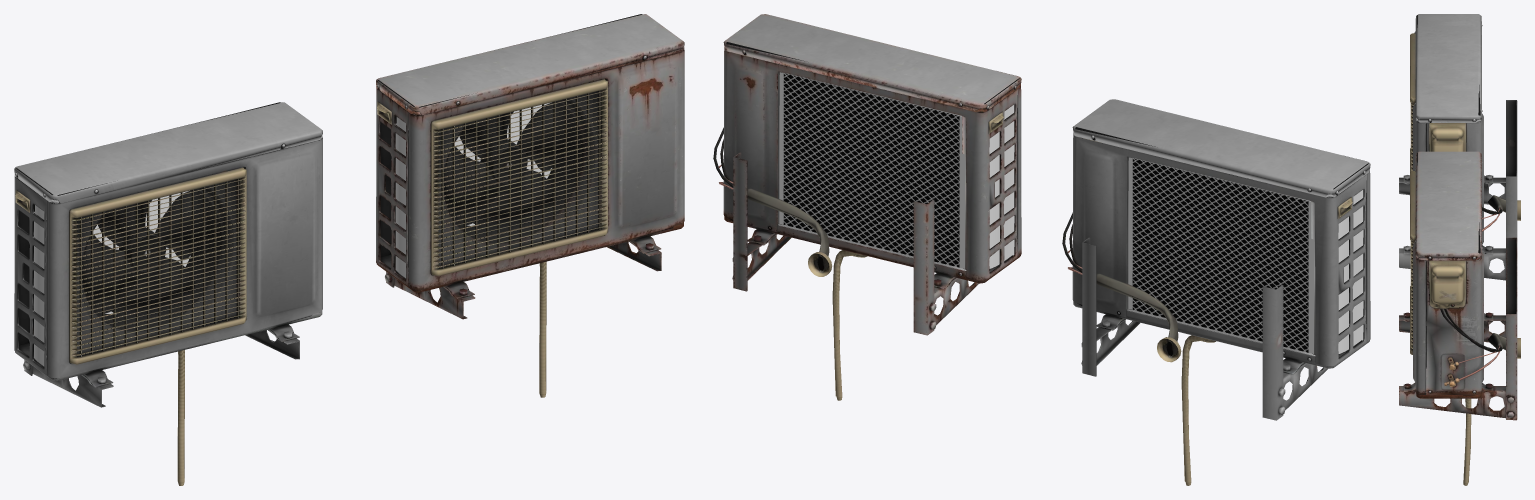
The model's file is exterior_aircon_unit.glb.
The picture shows the model from 3 angles, left to right: view 1: azimuth 30°, elevation 25°; view 2: azimuth 150°, elevation 25°; view 3: azimuth 270°, elevation 25°; orthographic projection. The views are drawn at different scales.
Visible parts, largest first — view 1: exterior_aircon_unit_rusted, exterior_aircon_unit; view 2: exterior_aircon_unit_rusted, exterior_aircon_unit; view 3: exterior_aircon_unit_rusted, exterior_aircon_unit.
Boxes of the visible parts, x1,y1,x2,y2 form: exterior_aircon_unit_rusted: [376, 14, 684, 397]; exterior_aircon_unit: [14, 102, 322, 485]; exterior_aircon_unit_rusted: [713, 14, 1021, 400]; exterior_aircon_unit: [1062, 99, 1370, 485]; exterior_aircon_unit_rusted: [1399, 151, 1520, 485]; exterior_aircon_unit: [1399, 14, 1520, 280].
Bounding box in the file's own units: 1.8 × 0.9279 × 0.3742.
4 materials, 4 textured.
